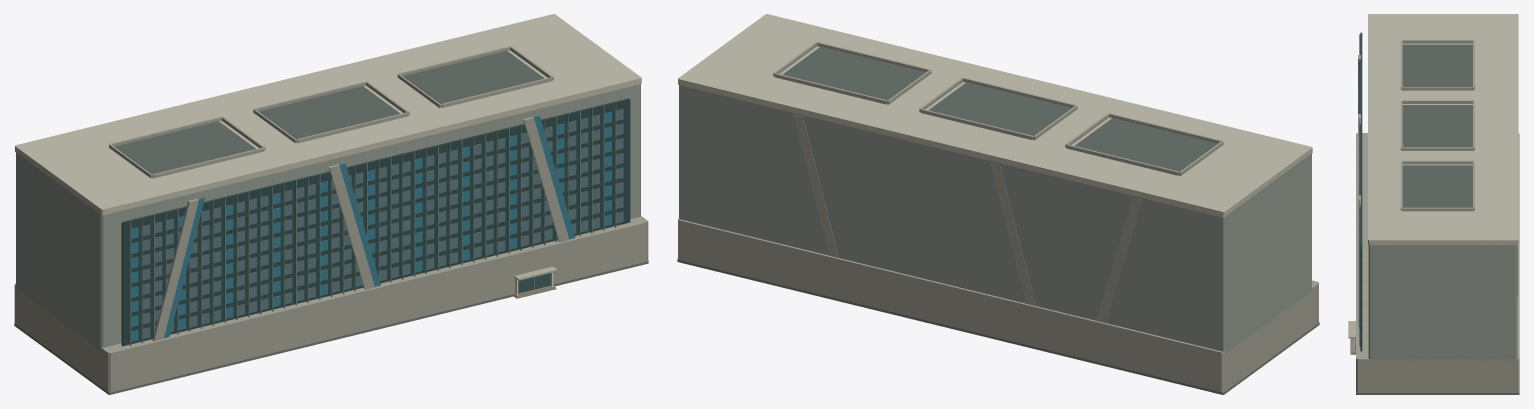
Rendered from complex.glb.
3 views of the same model, side by side, from view 1: azimuth 30°, elevation 25°; view 2: azimuth 150°, elevation 25°; view 3: azimuth 270°, elevation 25° (orthographic). The views are drawn at different scales.
Parts seen in each view (by area): view 1: form, glaze, relief, glowing; view 2: form; view 3: form, relief.
Part boxes in pixels (x1,y1,x2,y2): form: (14, 14, 648, 394); glaze: (129, 109, 623, 339); relief: (130, 101, 616, 346); glowing: (129, 123, 623, 341); form: (677, 14, 1319, 394); form: (1348, 14, 1519, 394); relief: (1353, 34, 1360, 351).
Bounding box in the file's own units: 98 × 31.83 × 31.41.
